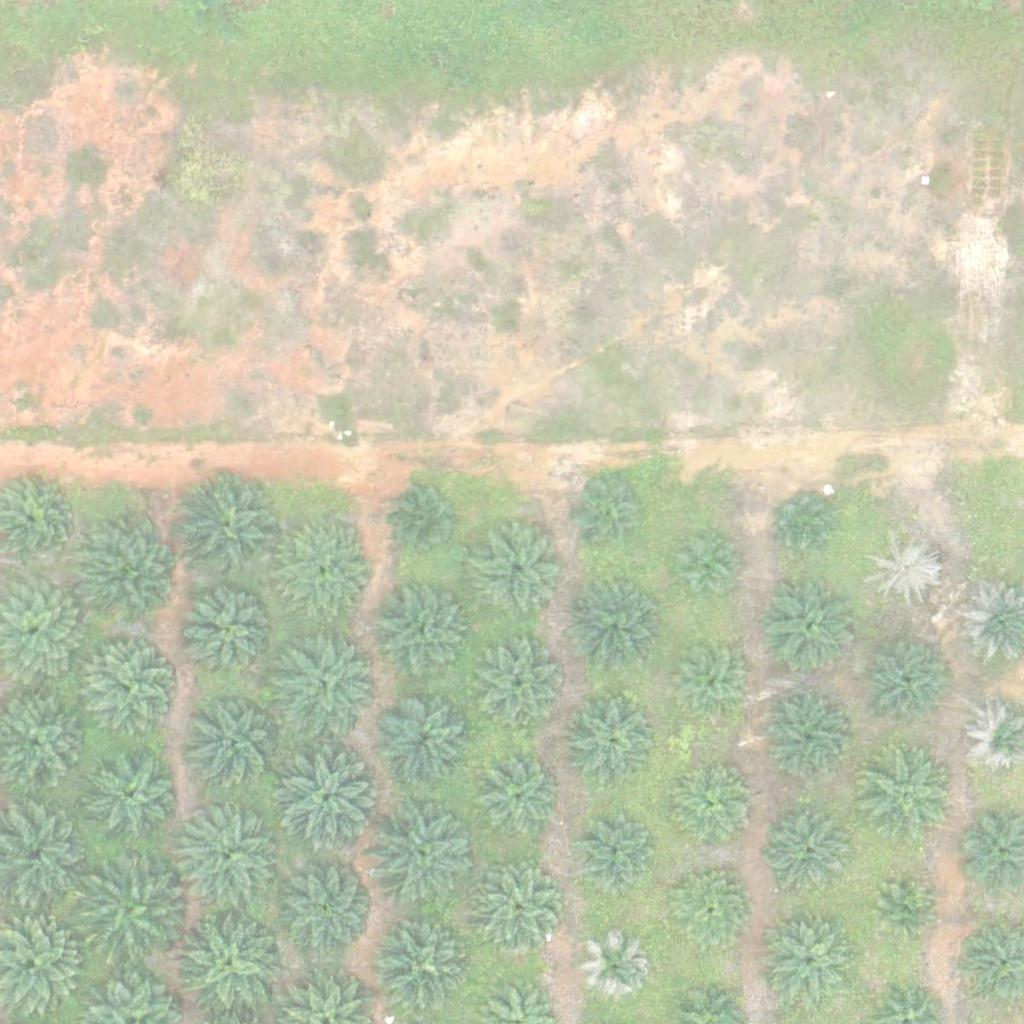Kelapa_Sawit: (80, 851, 193, 965), (172, 908, 285, 1022), (367, 798, 480, 911), (170, 801, 282, 915), (174, 472, 286, 585), (274, 742, 386, 855), (82, 527, 182, 628), (183, 586, 283, 687), (185, 692, 285, 793), (276, 524, 376, 625), (278, 630, 378, 731), (372, 582, 472, 683), (375, 690, 475, 791), (373, 914, 473, 1015), (469, 520, 569, 621), (82, 636, 182, 736), (85, 747, 185, 847), (277, 858, 377, 958), (761, 578, 861, 678), (860, 632, 960, 732), (860, 746, 960, 846), (477, 644, 565, 733), (667, 868, 755, 957), (571, 587, 659, 675), (568, 700, 656, 788), (670, 766, 758, 854), (474, 758, 561, 846), (477, 868, 564, 956), (766, 695, 853, 783), (765, 811, 852, 899), (766, 921, 853, 1009), (867, 531, 942, 607), (673, 650, 748, 725), (577, 818, 652, 893), (579, 932, 654, 1007), (578, 483, 641, 546), (675, 530, 738, 593), (395, 485, 458, 548), (875, 881, 938, 944), (771, 491, 833, 553)
